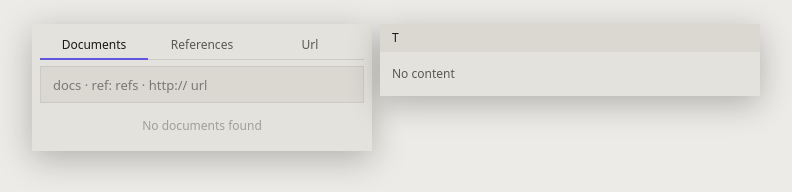
LinkSuggestionsPopup — ref: mode bounded q search › lists the returned page and re-queries as the search text changes
Type "ref: Alpha" into the field with placeholder "docs · ref: refs · http:// url" at (202, 84), box [40,66,364,103]
Wait 250 ms
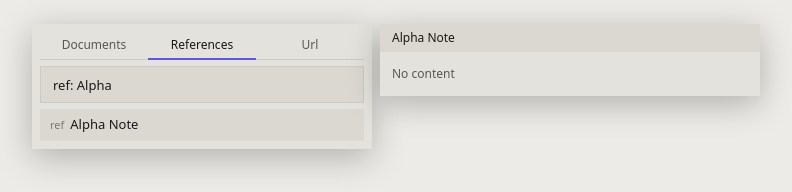
Result: the button with class "link-suggest-item" shows "Alpha Note" at [40,109,364,140]
Replace the text in the field with "ref: AlphaX" at (202, 84), box [40,66,364,103]
Wait 250 ms
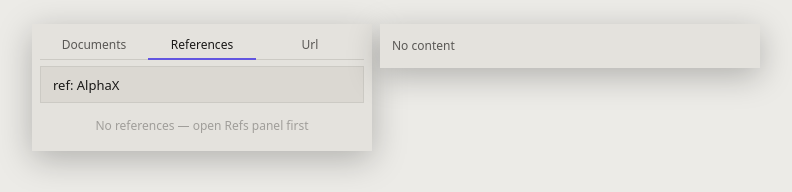
Result: the button with class "link-suggest-item" is gone
